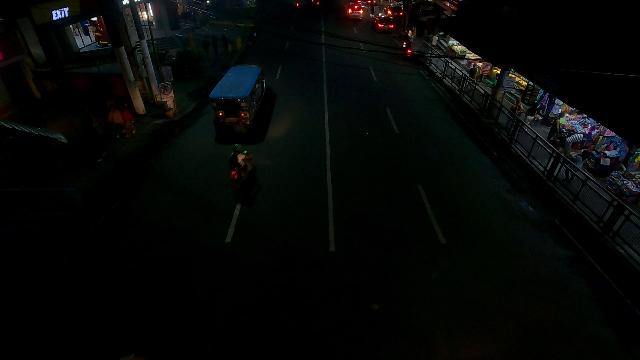jeepney: (209, 64, 265, 142)
